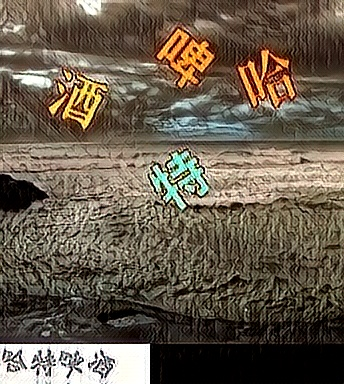B9FE: (236, 48, 296, 112)
BEC6: (47, 63, 107, 127)
C6A1: (156, 26, 216, 90)
CCD8: (148, 145, 208, 209)
